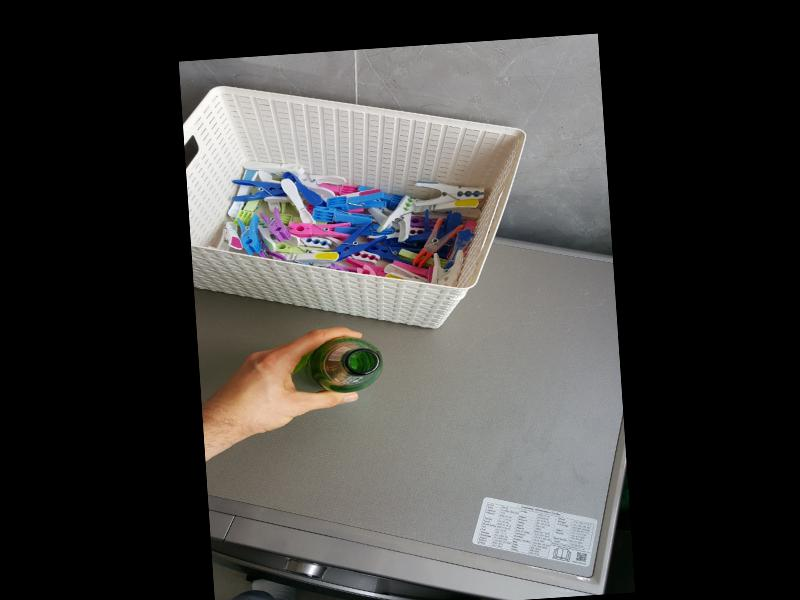Beer: (302, 335, 384, 395)
